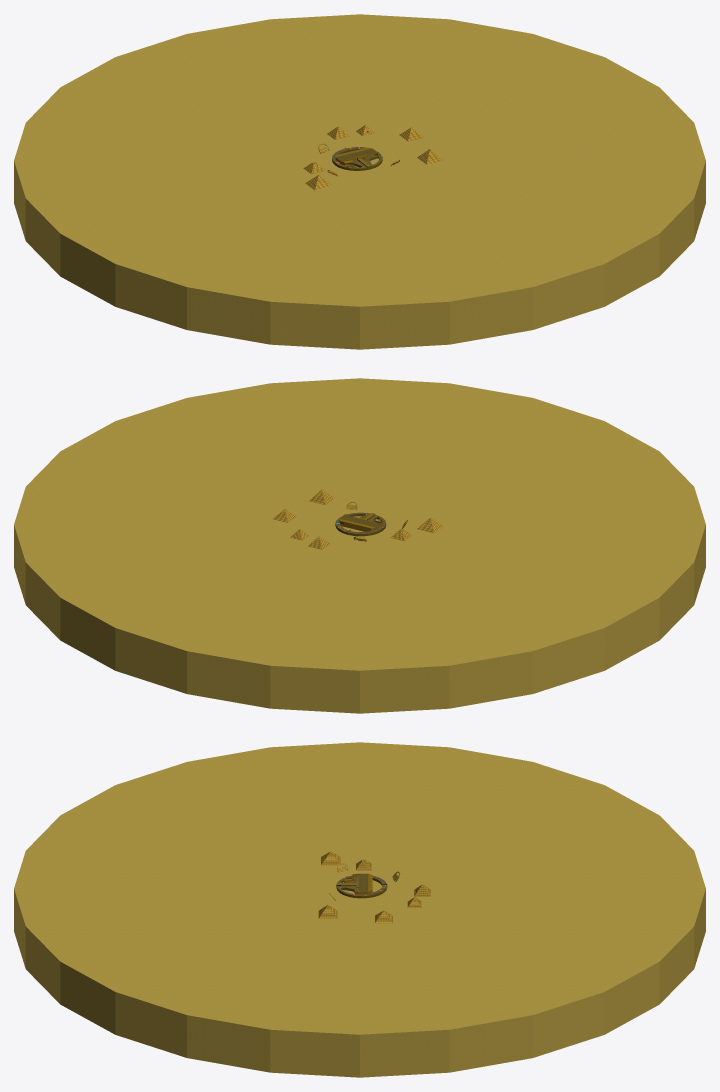
The picture shows the model from 3 angles, top to bottom: view 1: azimuth 30°, elevation 25°; view 2: azimuth 150°, elevation 25°; view 3: azimuth 270°, elevation 25°; orthographic projection.
Visible parts, largest first — view 1: LastwheelModel-SKP--00D0, LastwheelModel-SKP--002C_9; view 2: LastwheelModel-SKP--00D0, LastwheelModel-SKP--002C_9; view 3: LastwheelModel-SKP--00D0, LastwheelModel-SKP--002C_9.
Part boxes in pixels (<box>): LastwheelModel-SKP--00D0: <box>14,14,705,349</box>; LastwheelModel-SKP--002C_9: <box>303,125,442,190</box>; LastwheelModel-SKP--00D0: <box>14,378,705,713</box>; LastwheelModel-SKP--002C_9: <box>273,489,443,549</box>; LastwheelModel-SKP--00D0: <box>14,742,705,1077</box>; LastwheelModel-SKP--002C_9: <box>318,851,430,923</box>.
Size of the model in its own units: 881630 by 74835 by 881630.
30 materials, 30 textured.
